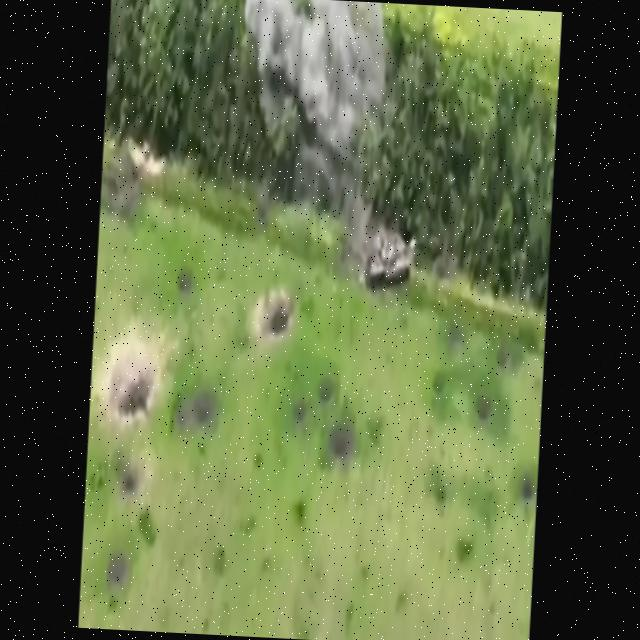MBT: (362, 222, 416, 294)
